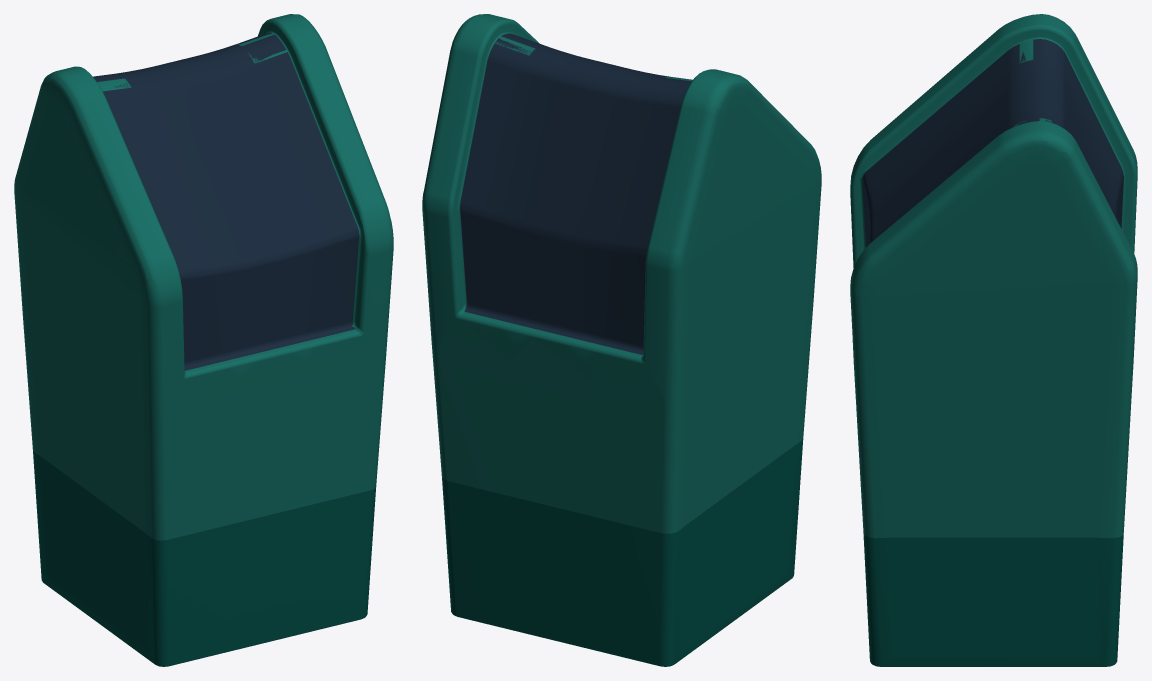
The model's file is SM_Building5.fbx.
3 views of the same model, side by side, from view 1: azimuth 30°, elevation 25°; view 2: azimuth 150°, elevation 25°; view 3: azimuth 270°, elevation 25° (orthographic). The views are drawn at different scales.
Visible parts, largest first — view 1: Building.004; view 2: Building.004; view 3: Building.004.
Boxes of the visible parts, x1,y1,x2,y2 form: Building.004: (14,14,393,666); Building.004: (422,14,821,666); Building.004: (850,14,1137,666).
Bounding box in the file's own units: 3782 × 7631 × 3662.
